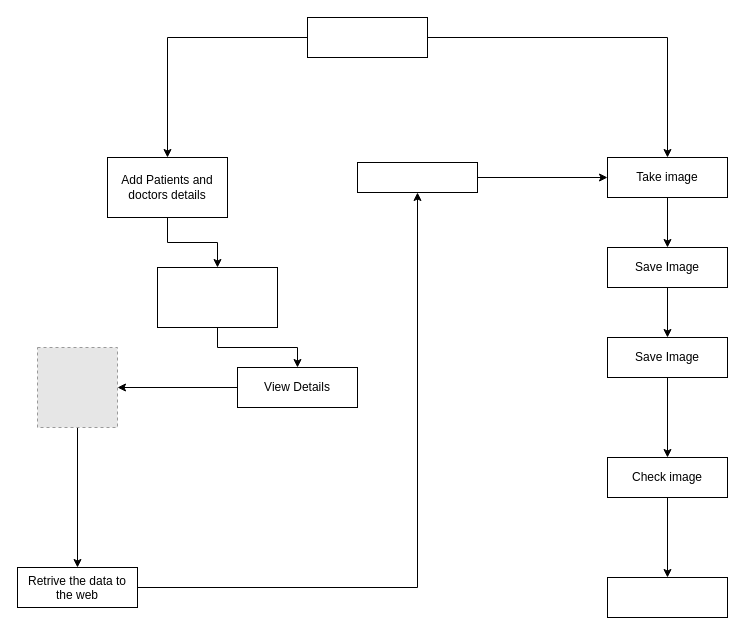
The diagram is 745 pixels wide and 635 high, and some of its shapes have lost their labels. Grey dashed boxes stand in for pictures. Each missing label, with the centre of its shape:
"Admin Section" belongs at point (367, 37).
"Doctor" belongs at point (417, 177).
"Edit Patient and Doctors details" belongs at point (217, 297).
"View Image for the doctors and patients" belongs at point (667, 597).
